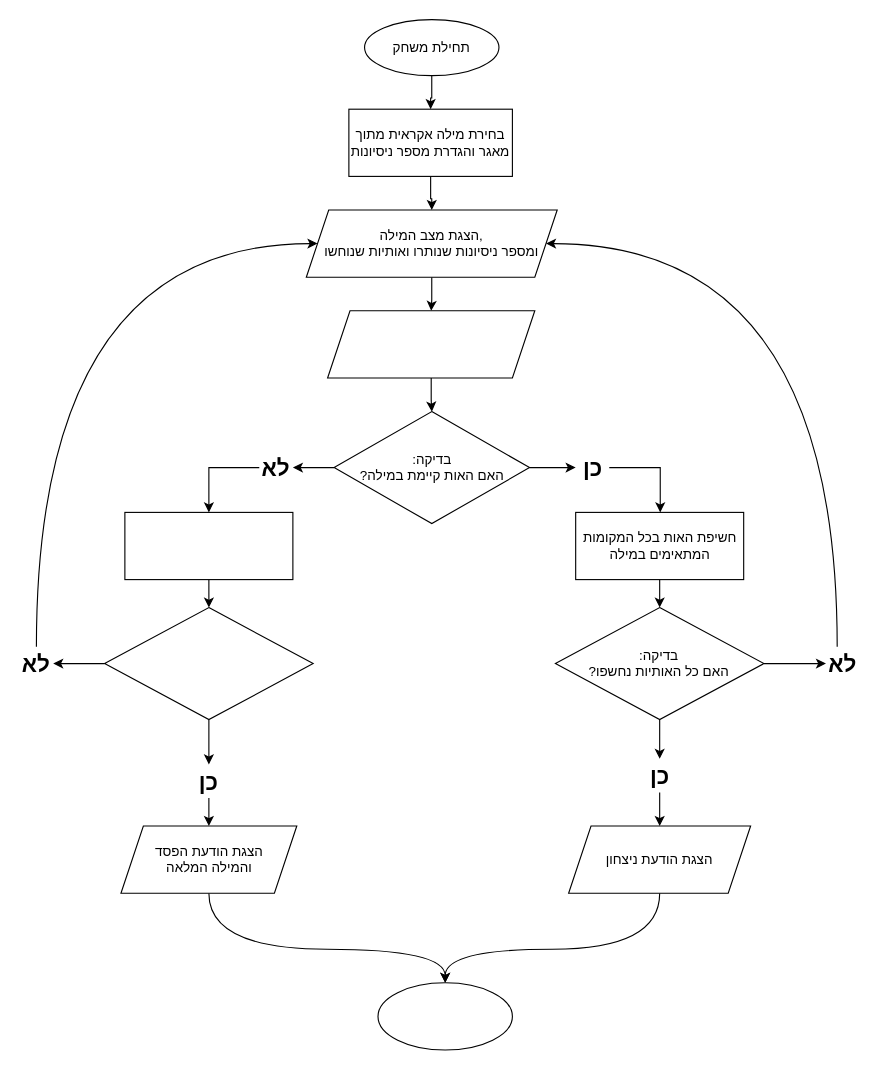
This 878x1070 diagram has some shape labels left out. Here are the shapes that lost their labels. From the top down, the centre of each, then its label:
At point 430,344: "קבלת אות מהשחקן (קלט)".
At point 208,545: "הפחתת מספר הניסיונות של השחק".
At point 208,663: ":בדיקה ?האם נגמרו הנסיונות".
At point 444,1016: "סיום המשחק".
